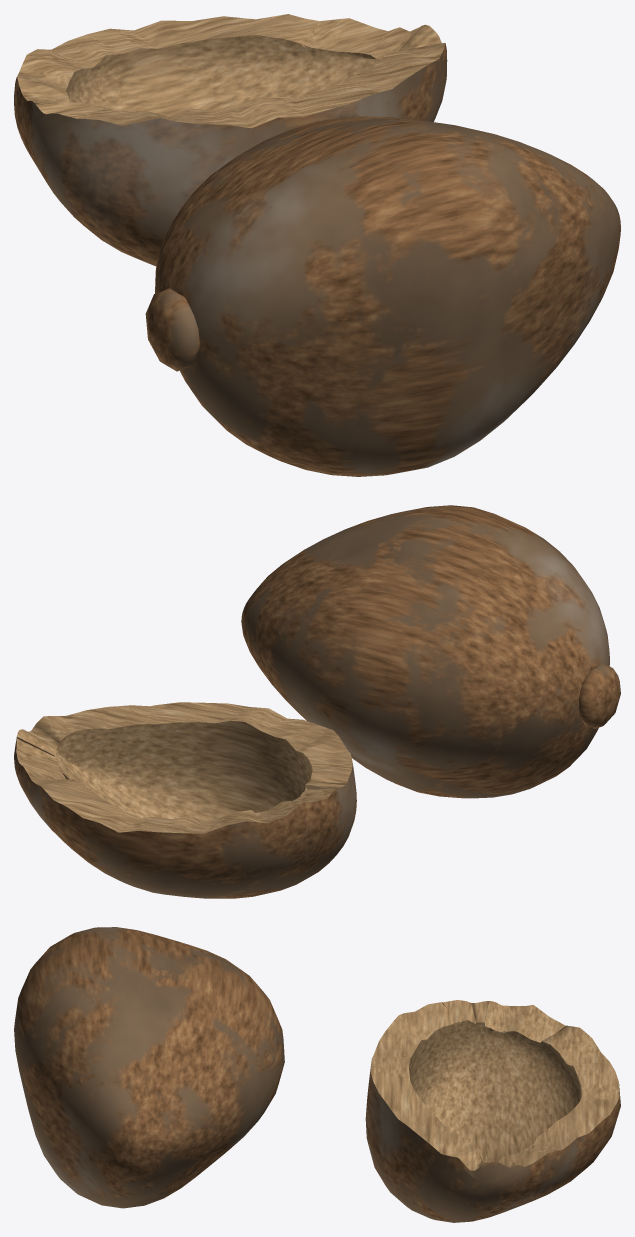
The model's file is Coconut_Husk.gltf.
3 renders of one model, top to bottom at view 1: azimuth 30°, elevation 25°; view 2: azimuth 150°, elevation 25°; view 3: azimuth 270°, elevation 25°, orthographic. The views are drawn at different scales.
Visible parts, largest first — view 1: Coconut_Husk; view 2: Coconut_Husk; view 3: Coconut_Husk.
Boxes of the visible parts, bbox=[...] form: Coconut_Husk: bbox=[14, 14, 620, 476]; Coconut_Husk: bbox=[14, 505, 620, 898]; Coconut_Husk: bbox=[14, 927, 620, 1222].
Size of the model in its own units: 0.3491 by 0.2157 by 0.4793.
2 materials, 2 textured.
